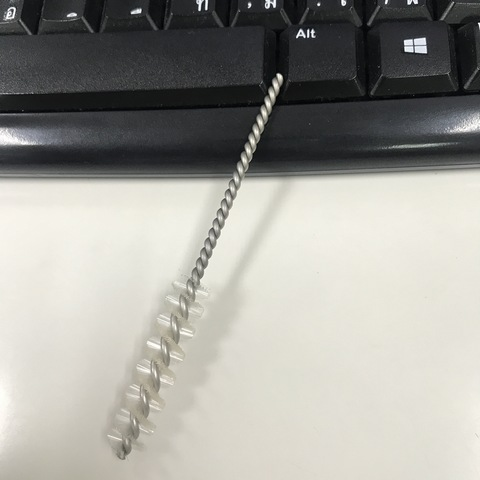Twist Brush-B: (101, 72, 288, 462)
